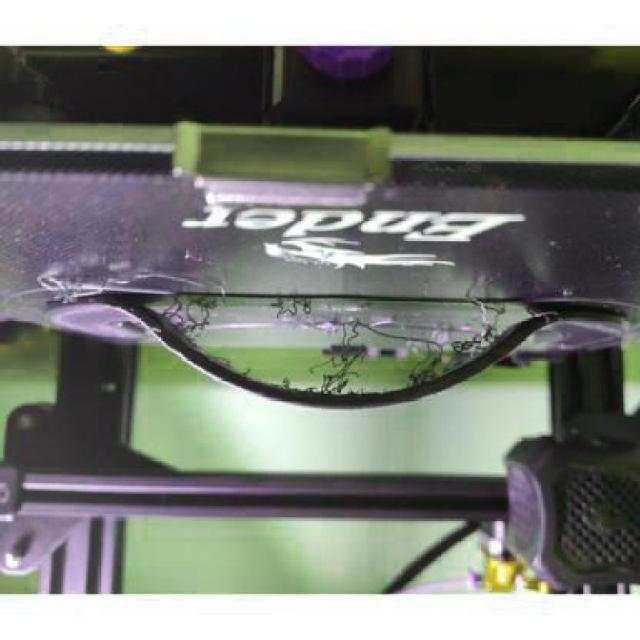Spaghetti: (161, 294, 507, 398)
